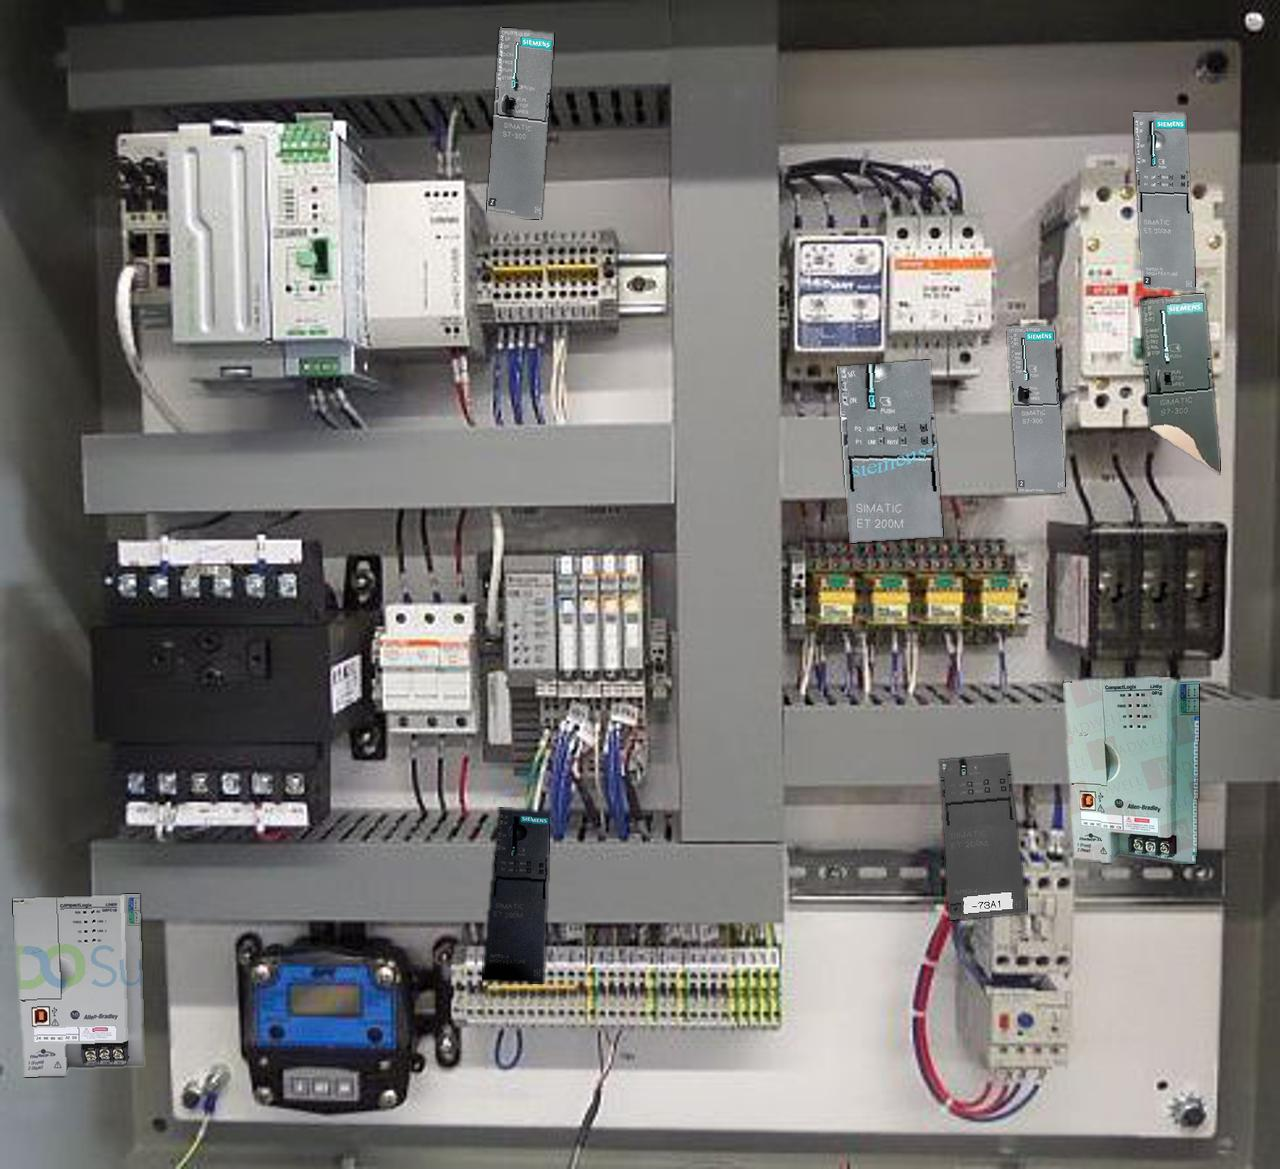AllenBradley: (1063, 677, 1199, 863), (13, 893, 143, 1076)
Siemens: (1140, 293, 1220, 473), (487, 27, 553, 219), (1007, 323, 1065, 492)
